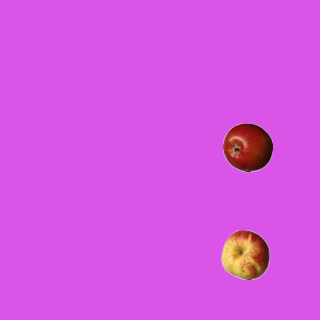Apple Braeburn: (222, 122, 272, 172)
Apple Red Yellow 1: (220, 229, 270, 279)
